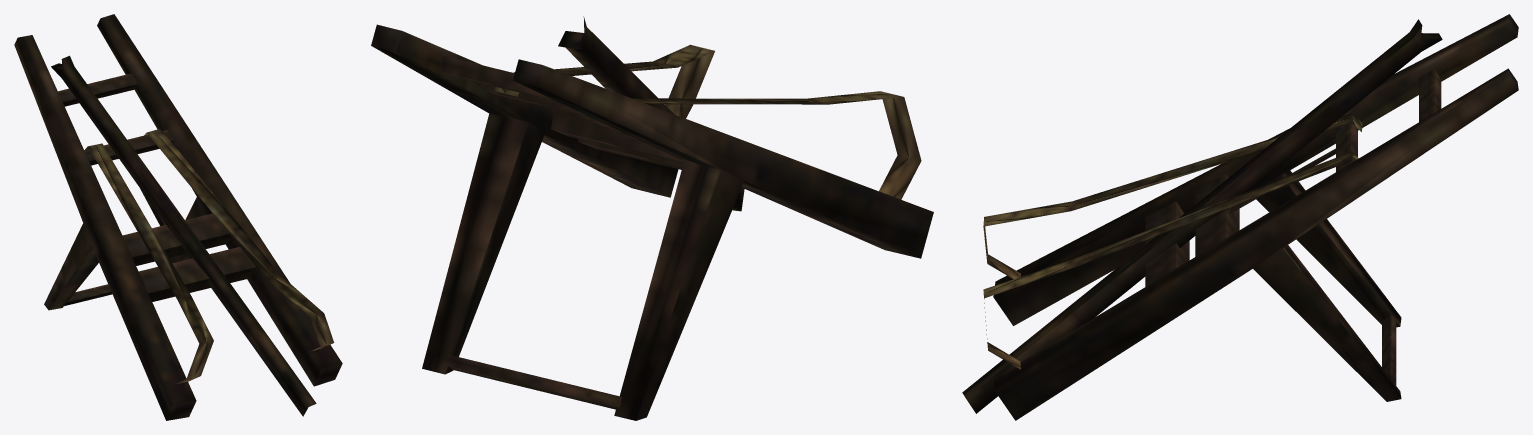
Rendered from b_general_obj_10_1_01.glb.
3 renders of one model, left to right at view 1: azimuth 30°, elevation 25°; view 2: azimuth 150°, elevation 25°; view 3: azimuth 270°, elevation 25°, orthographic. The views are drawn at different scales.
Visible parts, largest first — view 1: B_general_obj_06; view 2: B_general_obj_06; view 3: B_general_obj_06.
Part boxes in pixels (x1,y1,x2,y2): B_general_obj_06: (14, 14, 342, 420); B_general_obj_06: (371, 16, 933, 420); B_general_obj_06: (962, 14, 1518, 420).
Bounding box in the file's own units: 0.7827 × 1.12 × 1.67.
Materials: 1 (1 with a texture image).
